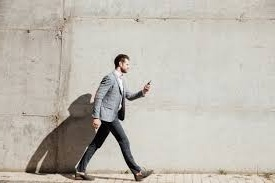not_fallen: (74, 51, 155, 181)
